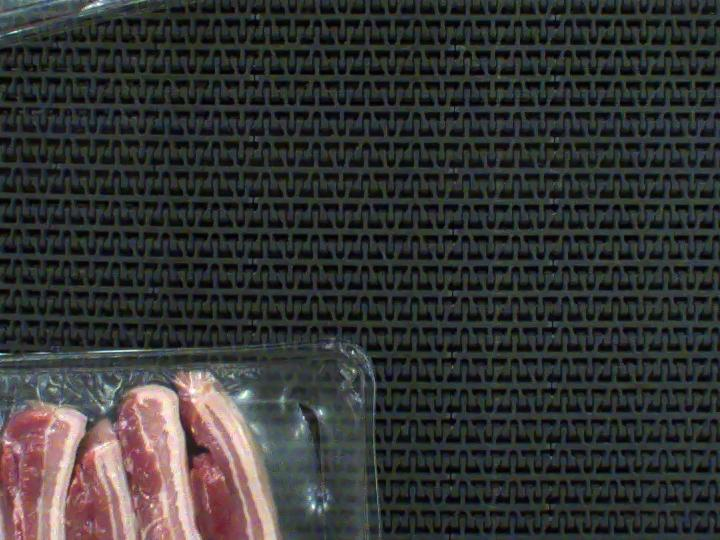unsealed: (0, 365, 325, 540)
